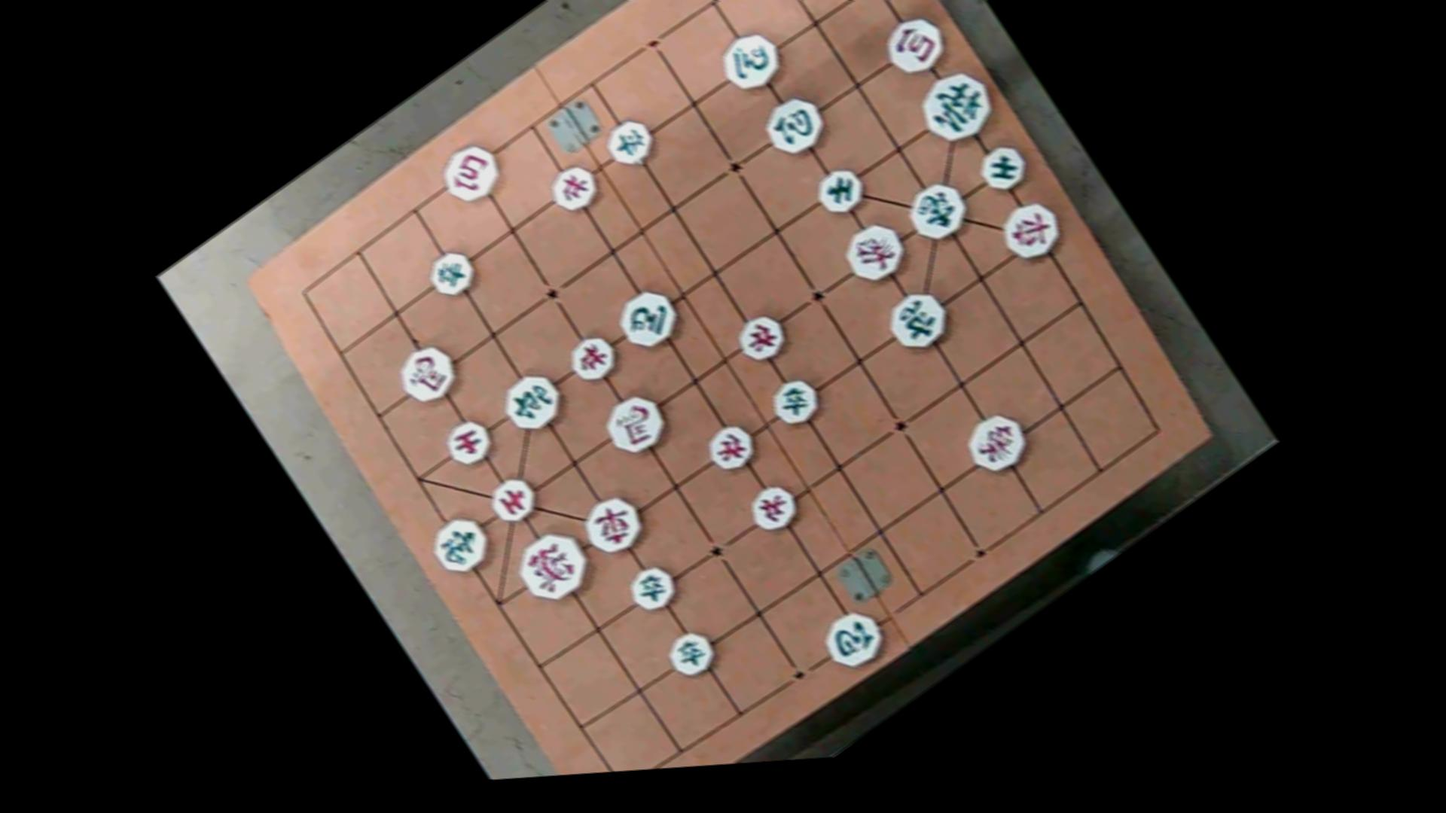cha_green: (880, 282, 953, 358), (496, 366, 567, 442)
cha_red: (575, 486, 651, 565), (993, 192, 1068, 270)
jol_green: (661, 620, 724, 686), (765, 369, 825, 433), (422, 242, 481, 306), (600, 111, 659, 173), (622, 559, 679, 618)
jol_red: (541, 155, 604, 221), (731, 304, 793, 370), (743, 477, 804, 540), (563, 329, 623, 393), (701, 416, 761, 478)
ma_green: (712, 21, 789, 101), (612, 279, 686, 358)
ma_red: (389, 335, 464, 413), (600, 388, 668, 461)
po_green: (816, 600, 892, 679), (757, 85, 831, 163)
po_red: (435, 132, 509, 211), (880, 9, 951, 82)
sa_green: (970, 136, 1033, 201), (812, 160, 874, 223)
sa_red: (484, 468, 543, 531), (439, 413, 498, 475)
sang_green: (901, 174, 975, 250), (426, 507, 498, 583)
sang_red: (959, 403, 1033, 480), (840, 217, 911, 290)
wang_green: (913, 59, 1001, 154)
wang_red: (510, 521, 597, 612)
